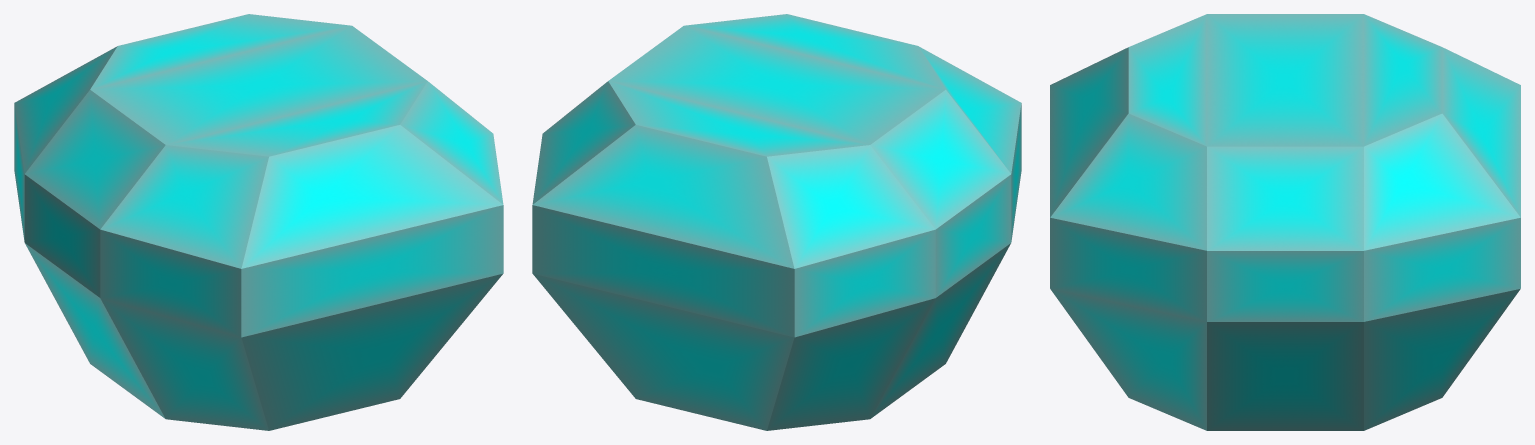
File: uncut-diamond.glb
The picture shows the model from 3 angles, left to right: view 1: azimuth 30°, elevation 25°; view 2: azimuth 150°, elevation 25°; view 3: azimuth 270°, elevation 25°; orthographic projection. The views are drawn at different scales.
Visible parts, largest first — view 1: UncutDiamond; view 2: UncutDiamond; view 3: UncutDiamond.
Boxes of the visible parts, x1,y1,x2,y2 form: UncutDiamond: (14, 14, 503, 430); UncutDiamond: (532, 14, 1021, 430); UncutDiamond: (1050, 14, 1520, 430).
Bounding box in the file's own units: 0.6 × 0.4 × 0.6.
1 material, 1 textured.
